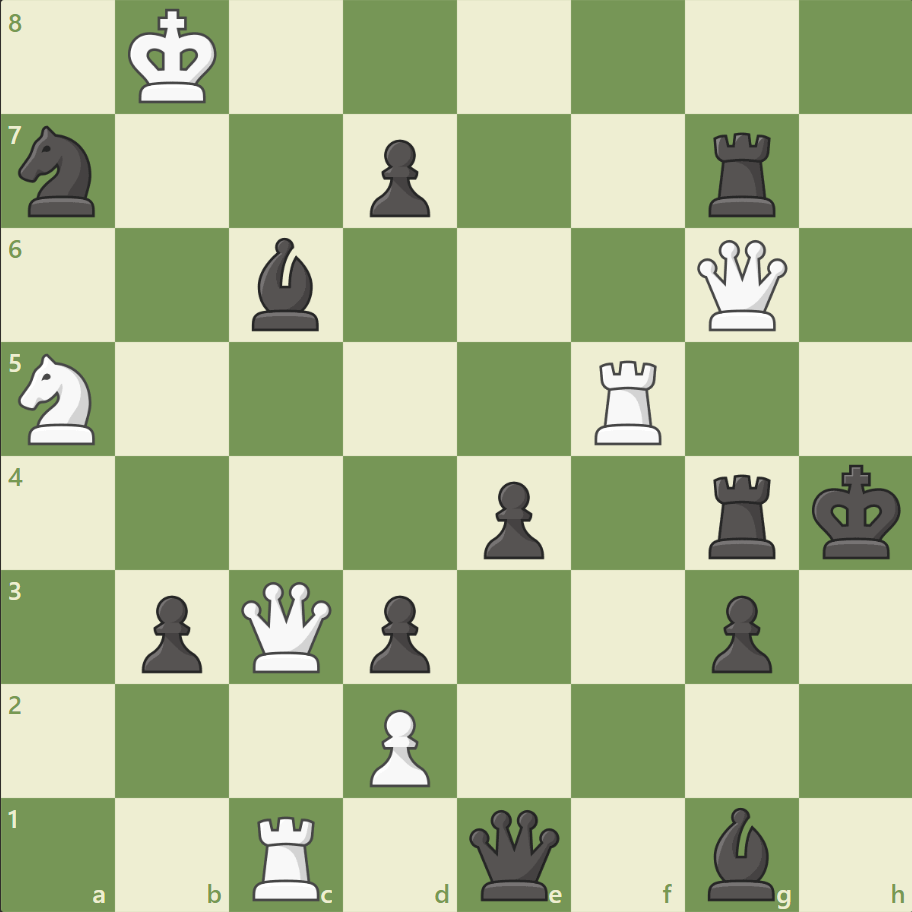K: (124, 4, 224, 112)
N: (11, 348, 108, 450)
P: (361, 700, 435, 791)
Q: (237, 576, 336, 676), (691, 236, 790, 335)
R: (246, 806, 329, 904), (587, 352, 670, 449)
b: (244, 233, 328, 336), (698, 801, 782, 904)
k: (806, 458, 906, 566)
n: (11, 121, 108, 223)
p: (474, 473, 549, 564), (133, 586, 208, 677), (701, 586, 776, 677), (361, 132, 435, 223), (361, 586, 435, 677)
q: (464, 804, 563, 903)
r: (700, 125, 783, 222), (700, 466, 783, 563)
